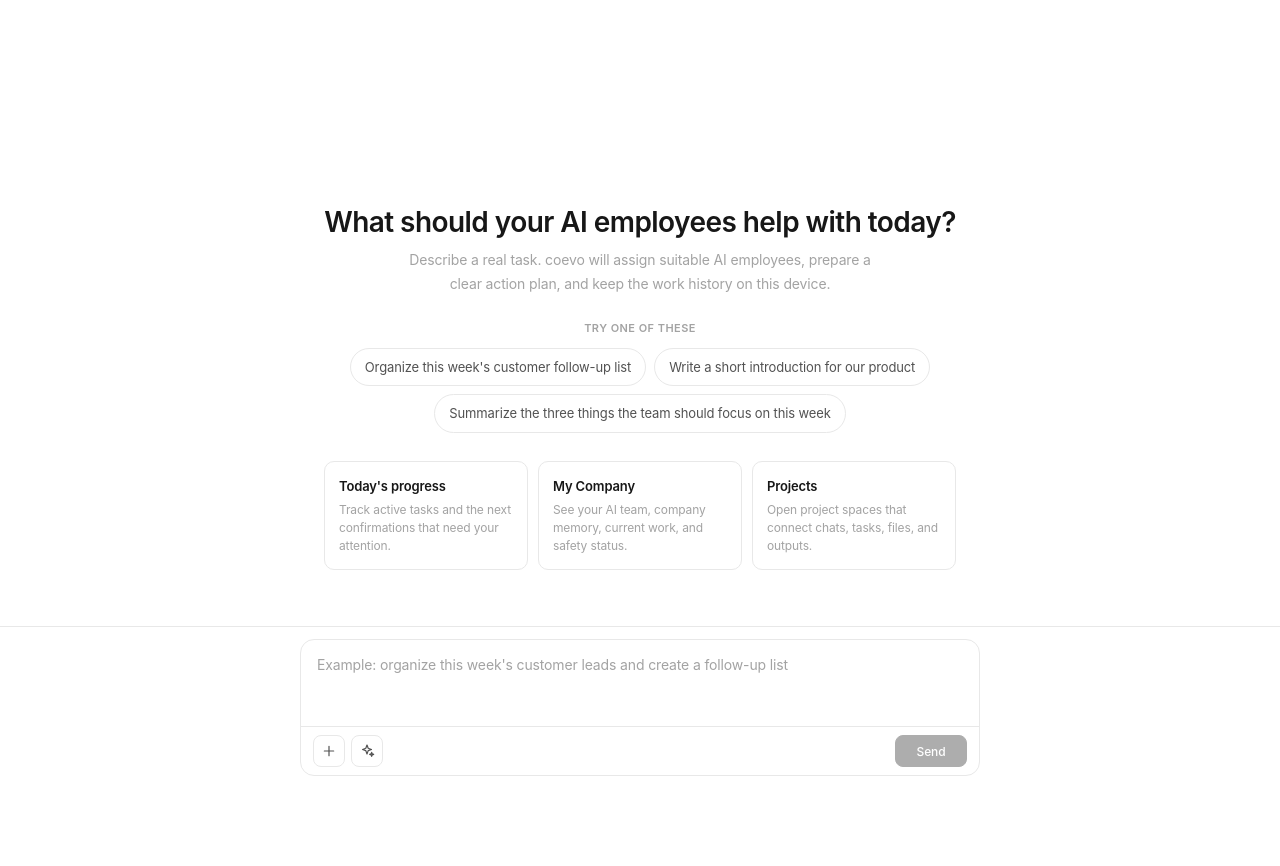
Scenario: MissionChat WorkOrder creation › creates the WorkOrder and tells the user when model cognition is unavailable
Replace the text in the text box with "Analyze the README and summarize risks": (640, 680) [301, 640, 979, 720]
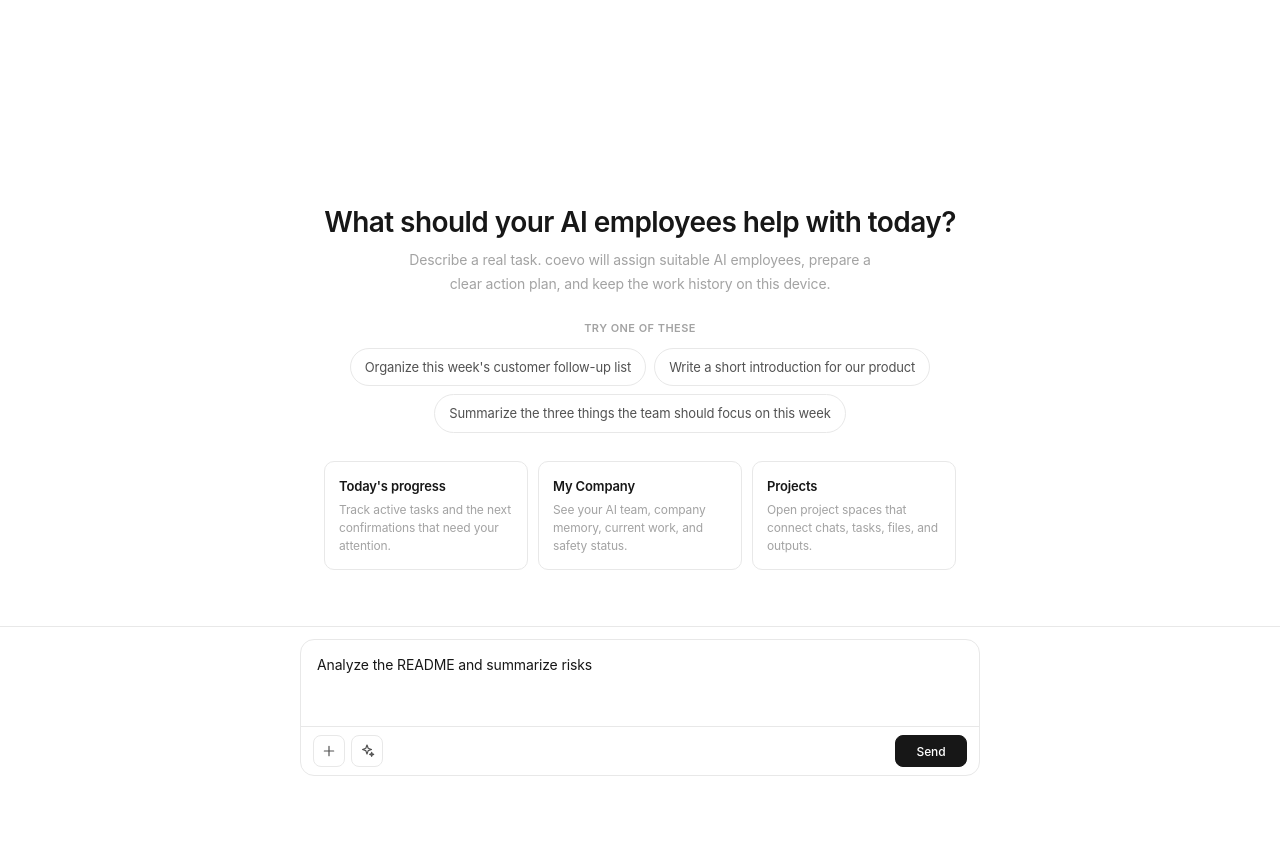
Click the button "Send": (931, 751) [895, 735, 967, 767]
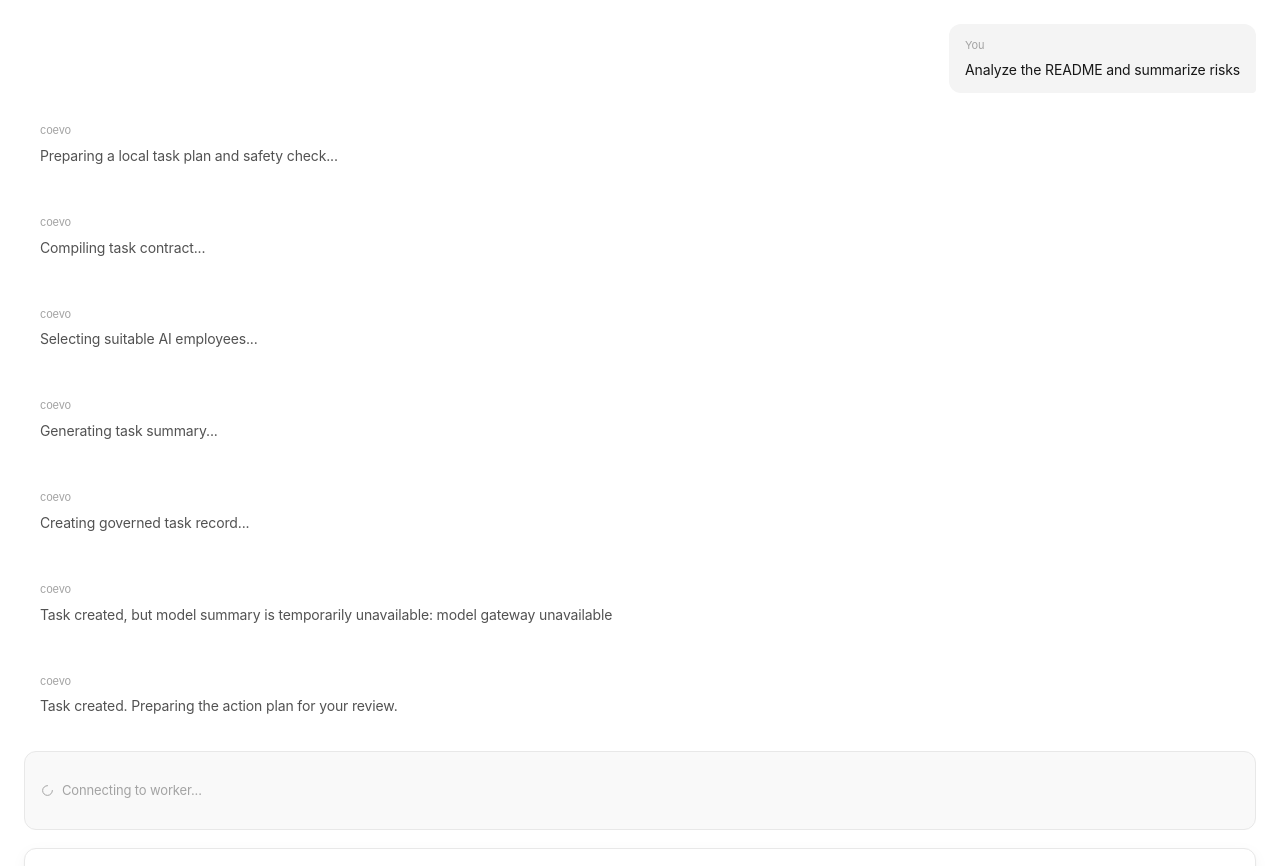
Now the text "Task created, but model summary is temporarily unavailable" is shown, box [40, 606, 612, 623]
